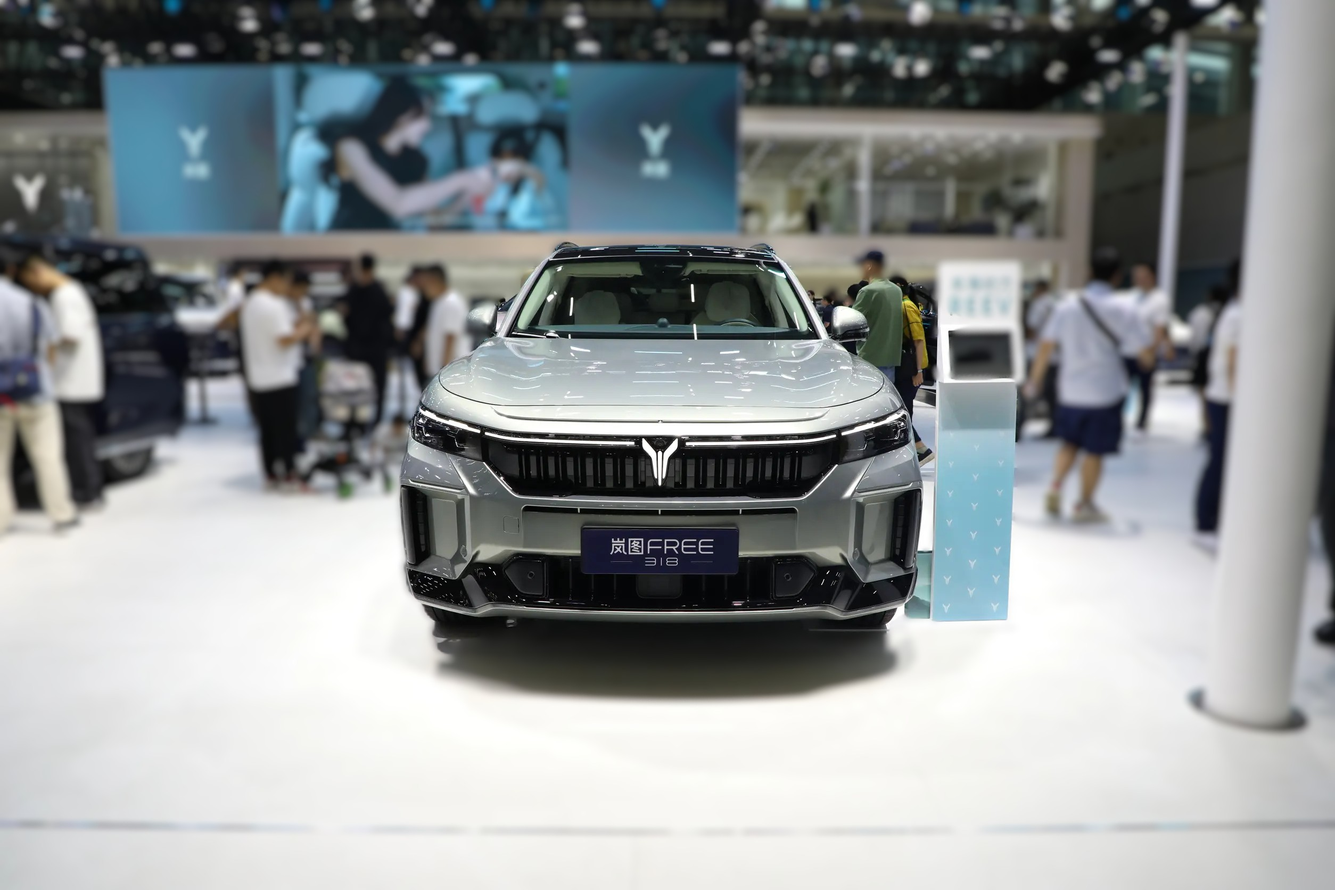VOYAH: (642, 439, 677, 485)
